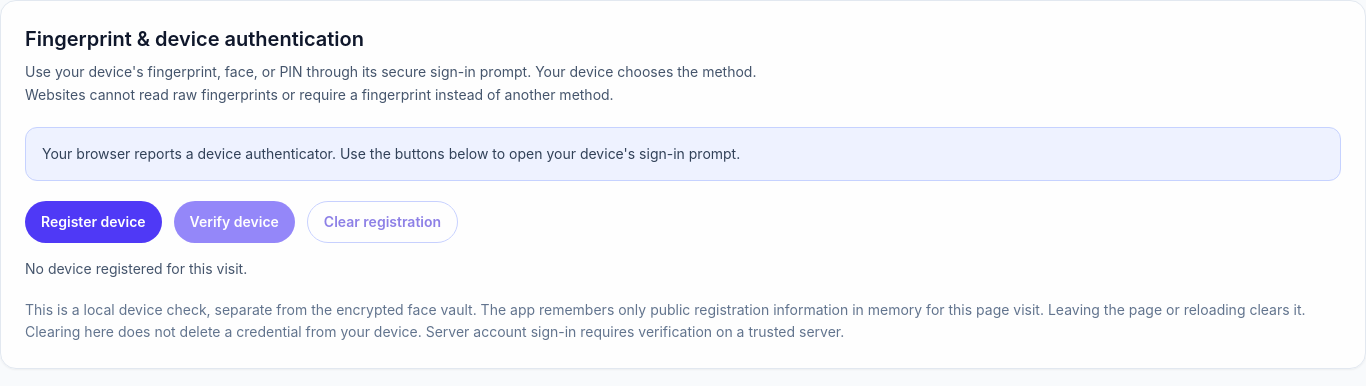
it: registers and verifies only on explicit actions and clears local registration
This screenshot has width=1366, height=386.
Check: the text "Your browser reports a device authenticator" is shown, box left=42, top=144, right=740, bottom=162
Check: the text "websites cannot read raw fingerprints" is shown, box left=25, top=63, right=756, bottom=103
Click the button "Register device" at (93,222), box left=25, top=200, right=162, bottom=242
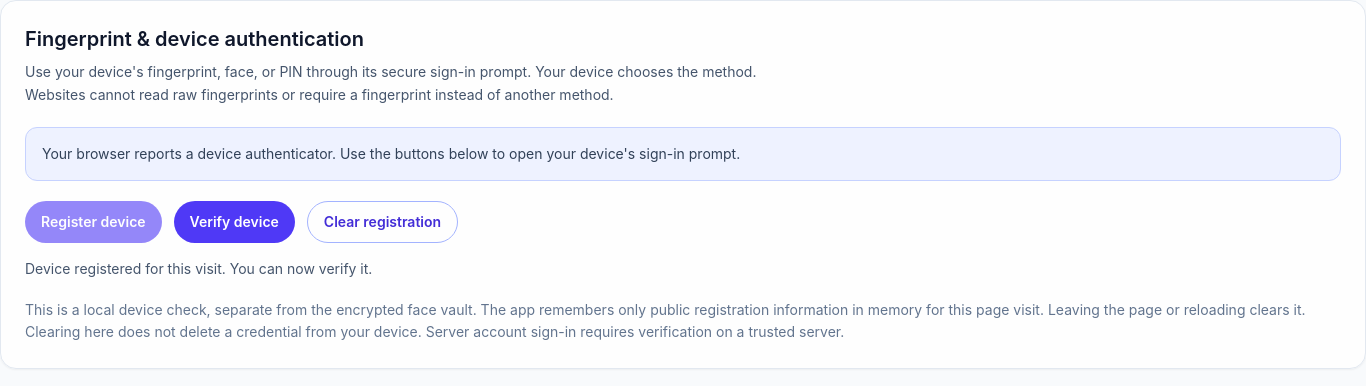
Check: the text "Device registered for this visit. You can now verify it." is shown, box left=25, top=260, right=372, bottom=276
Click the button "Verify device" at (234,222), box left=174, top=200, right=295, bottom=242
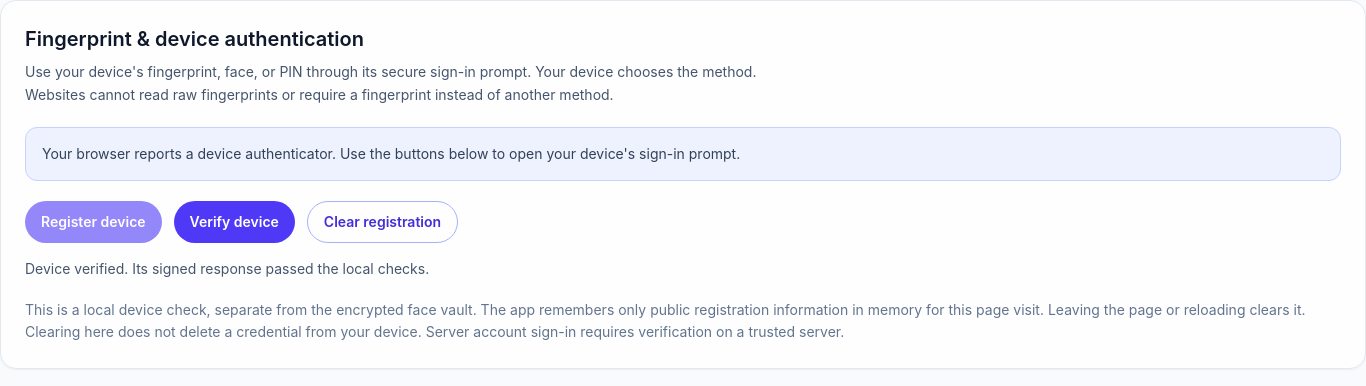
Check: the text "Device verified. Its signed response passed the local checks." is shown, box left=25, top=260, right=429, bottom=276
Click the button "Clear registration" at (382,222), box left=307, top=200, right=458, bottom=242
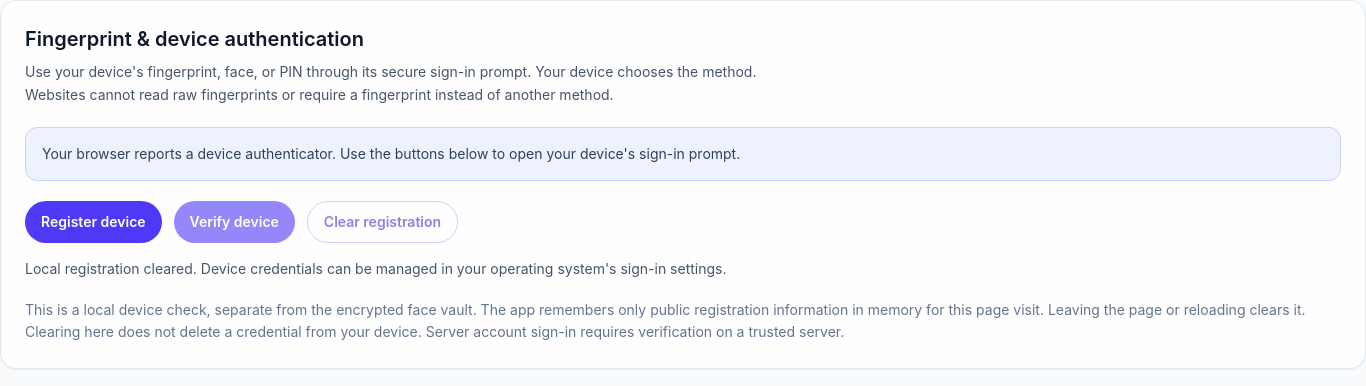
Check: the button "Verify device" is disabled, box left=174, top=200, right=295, bottom=242
